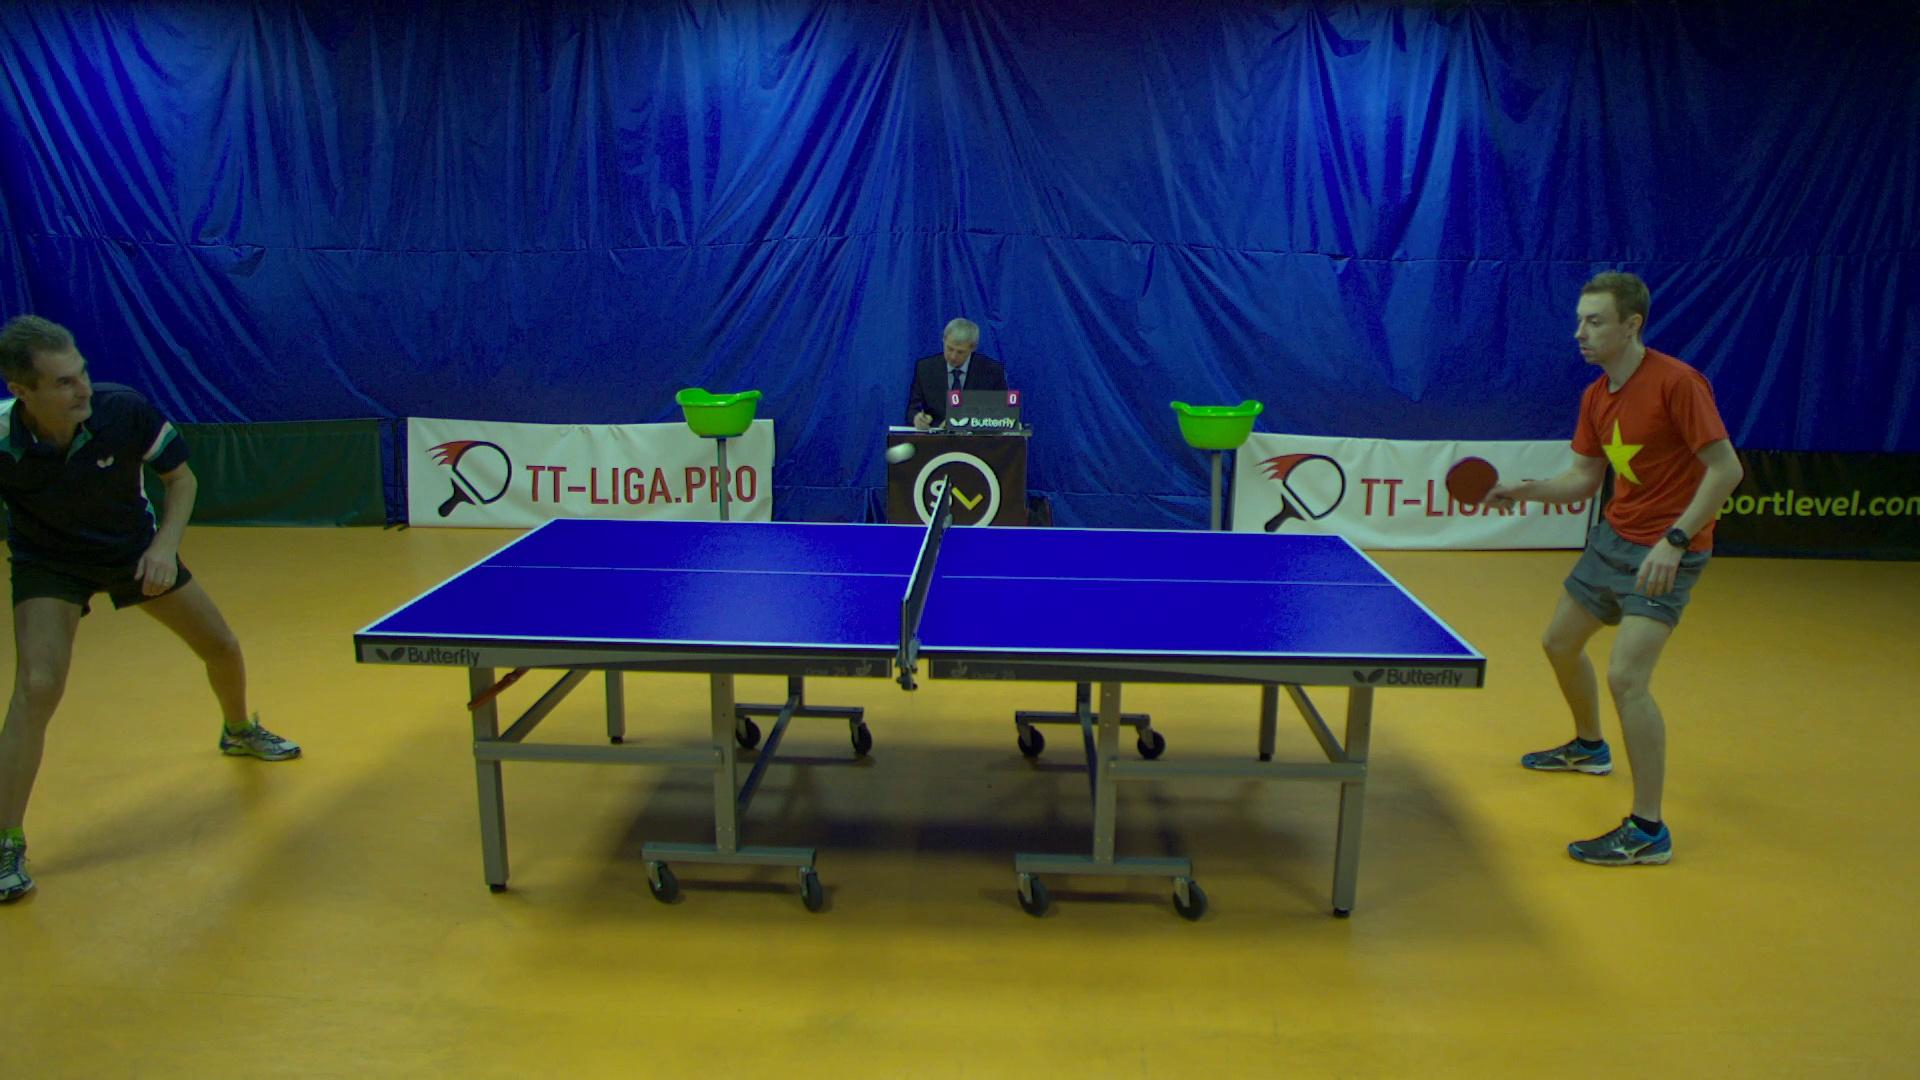ball: (882, 434, 919, 469)
